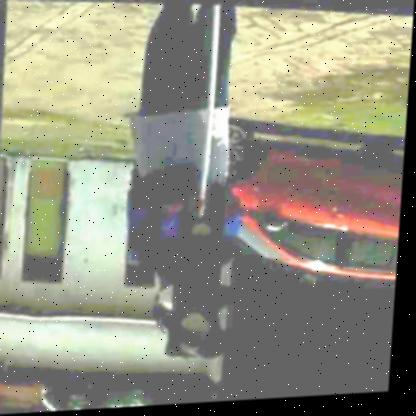Traffic Light -Yellow-: (161, 211, 247, 367)
